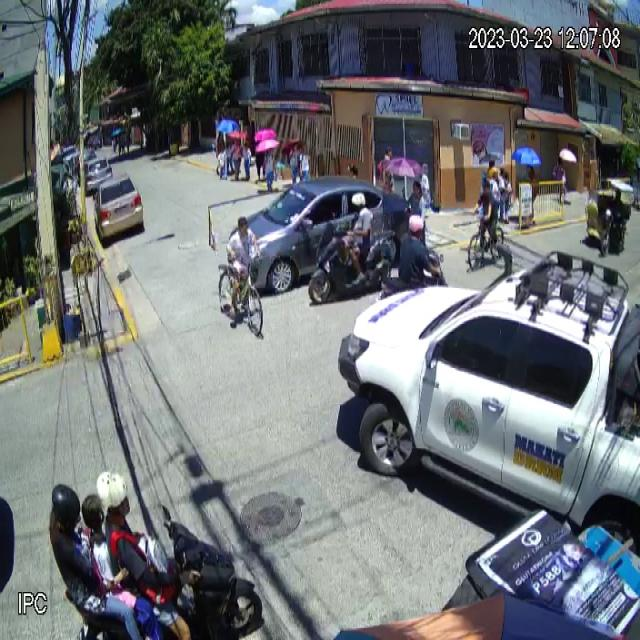Car: (339, 245, 640, 547)
Motorcycle: (307, 214, 397, 307)
